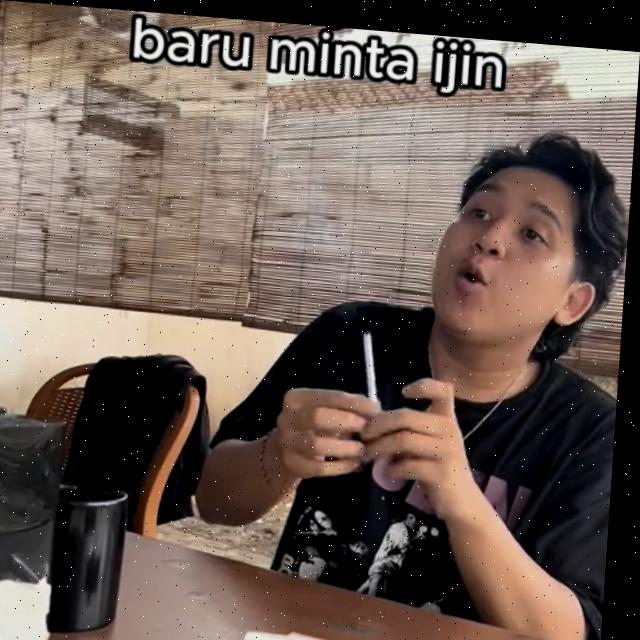cigarette: (364, 326, 387, 395)
